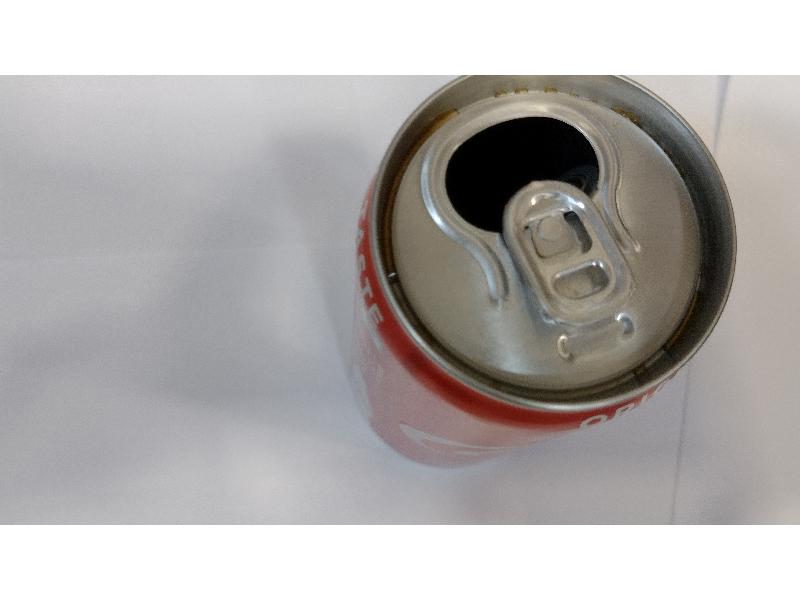can: (352, 75, 745, 484)
